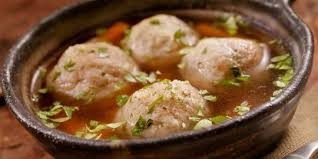bakso: (47, 10, 262, 135)
